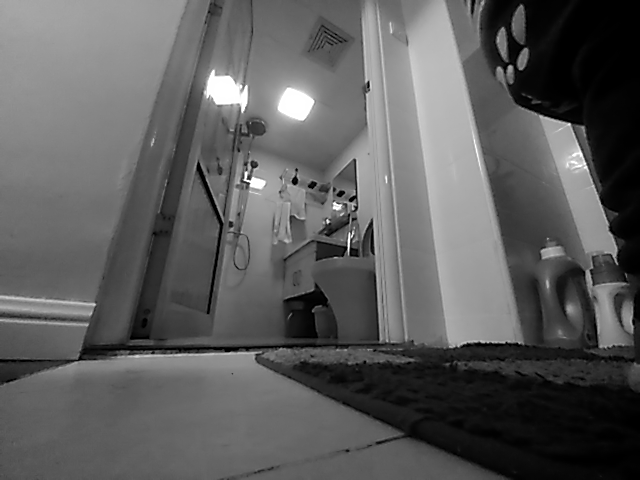carpet: (253, 338, 640, 480)
